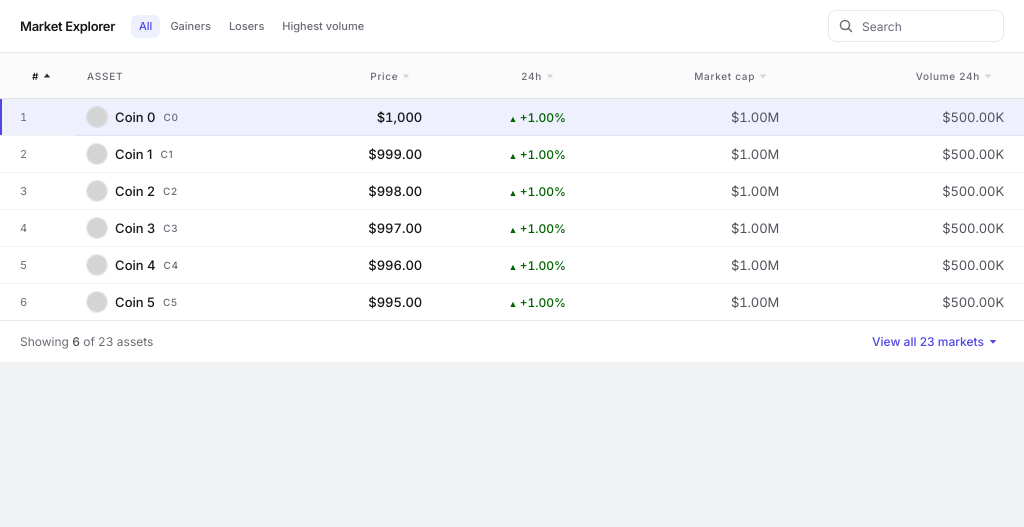
Scenario: market explorer preview › expands to the full page size and reveals pagination
Click the button "View all 23 markets": (935, 342) x1=866 y1=329 x2=1004 y2=354
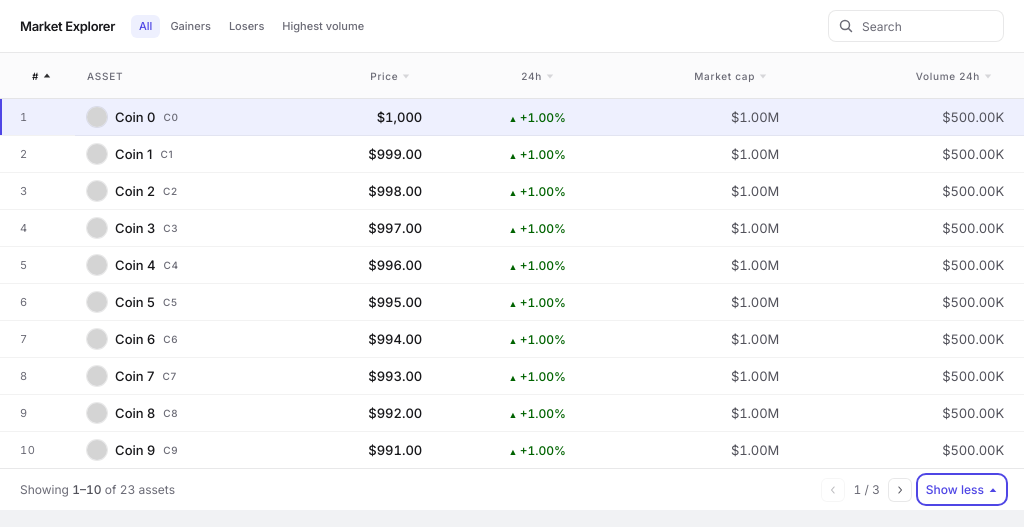
Expected: the navigation bar named "pagination" is shown, x1=20 y1=478 x2=912 y2=502
Expected: the button "Show less" is shown, x1=920 y1=477 x2=1004 y2=502
